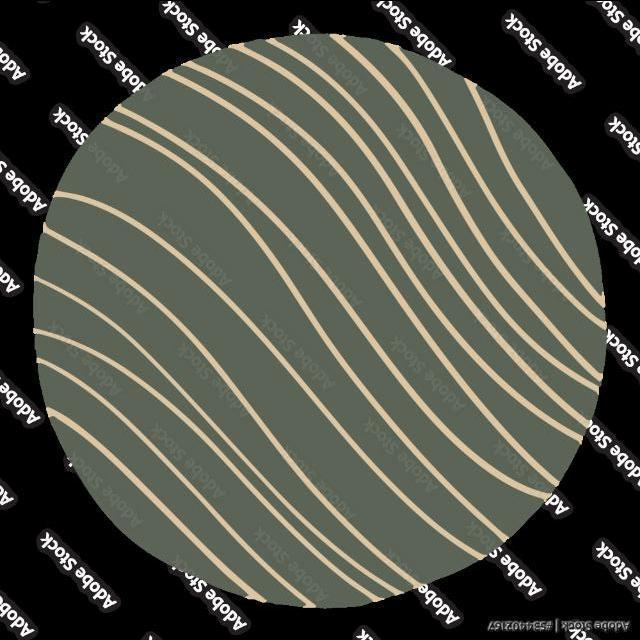Circle: (31, 30, 614, 616)
